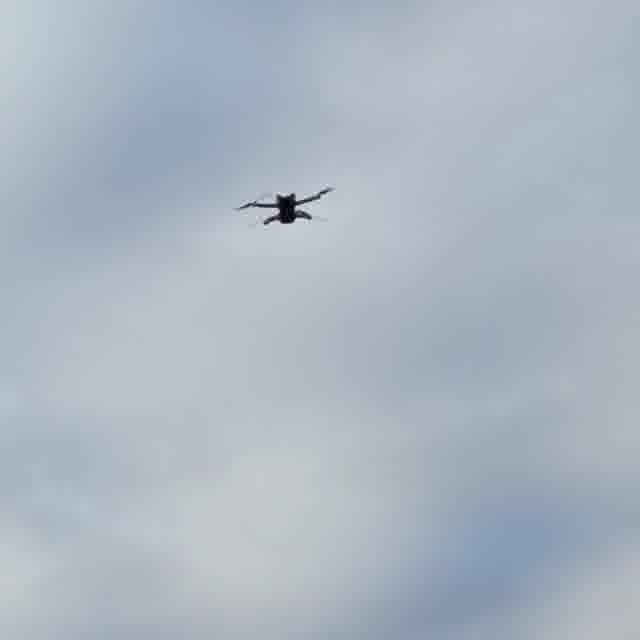Drohne: (237, 187, 333, 225)
